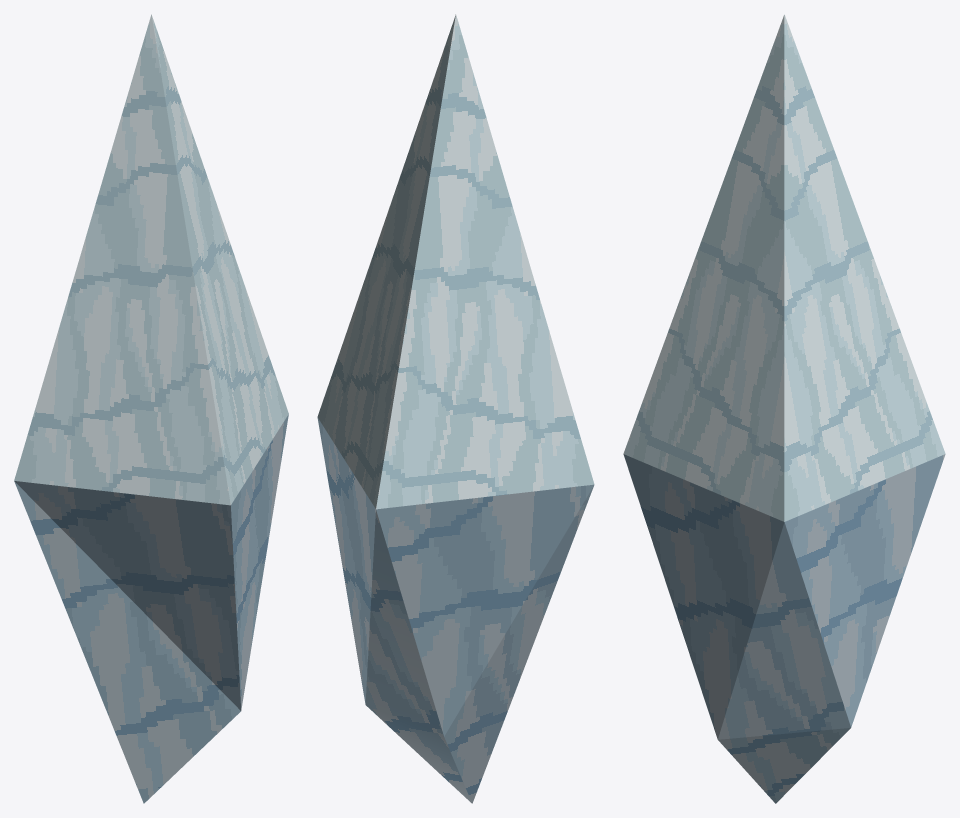
Rendered from 03ad_Pointy_Iceberg.glb.
The picture shows the model from 3 angles, left to right: view 1: azimuth 30°, elevation 25°; view 2: azimuth 150°, elevation 25°; view 3: azimuth 270°, elevation 25°; orthographic projection.
Visible parts, largest first — view 1: part_0; view 2: part_0; view 3: part_0.
Boxes of the visible parts, <box> form: part_0: <box>14,14,288,803</box>; part_0: <box>317,14,594,803</box>; part_0: <box>623,14,945,803</box>.
Size of the model in its own units: 88.97 by 242 by 88.97.
1 material, 1 textured.
